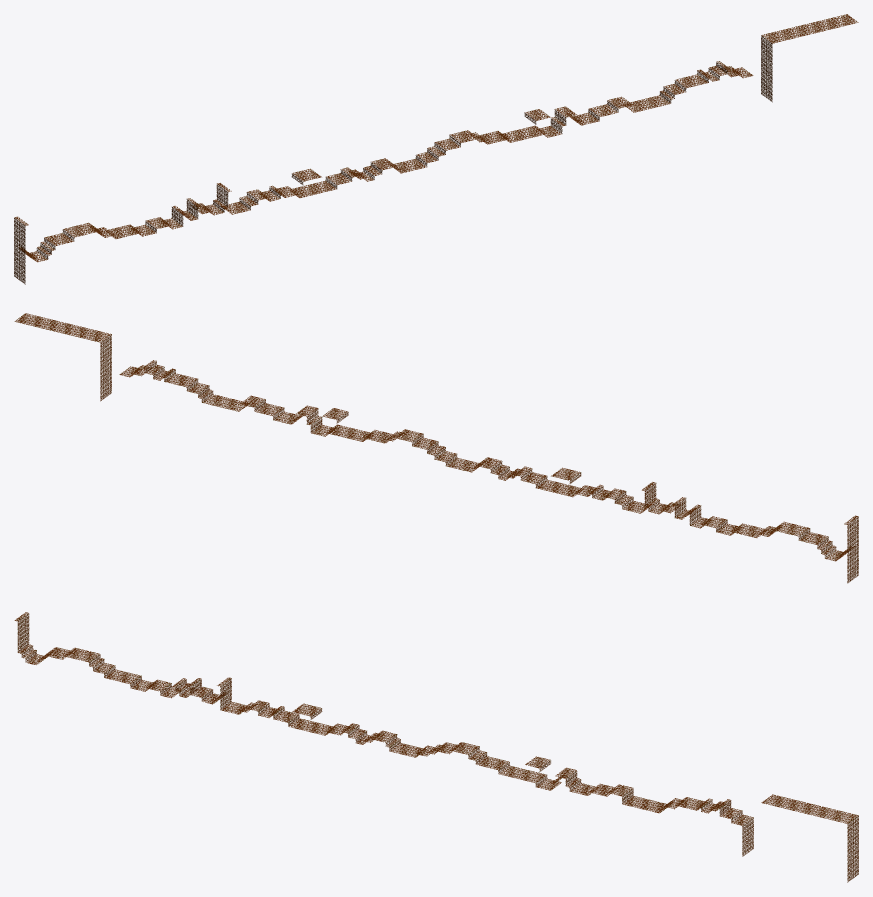
File: Luna2Rachadura12.glb
The picture shows the model from 3 angles, top to bottom: view 1: azimuth 30°, elevation 25°; view 2: azimuth 150°, elevation 25°; view 3: azimuth 330°, elevation 25°; orthographic projection.
Parts seen in each view (by area): view 1: Setor_1, Setor_4, Setor_6, Setor_2, Setor_5, Setor_3, Setor_0, Setor_-1; view 2: Setor_1, Setor_4, Setor_6, Setor_2, Setor_5, Setor_3, Setor_0, Setor_-1; view 3: Setor_6, Setor_0, Setor_4, Setor_2, Setor_1, Setor_5, Setor_3.
Part boxes in pixels (bbox=[...]): Setor_1: bbox=[134, 183, 265, 235]; Setor_4: bbox=[495, 98, 625, 142]; Setor_6: bbox=[735, 14, 858, 102]; Setor_2: bbox=[255, 161, 385, 201]; Setor_5: bbox=[615, 61, 745, 112]; Setor_3: bbox=[375, 130, 505, 173]; Setor_0: bbox=[14, 216, 145, 262]; Setor_-1: bbox=[14, 218, 25, 284]; Setor_1: bbox=[607, 482, 737, 534]; Setor_4: bbox=[247, 397, 377, 441]; Setor_6: bbox=[14, 313, 137, 401]; Setor_2: bbox=[487, 460, 617, 500]; Setor_5: bbox=[127, 360, 257, 411]; Setor_3: bbox=[367, 429, 497, 472]; Setor_0: bbox=[727, 515, 858, 561]; Setor_-1: bbox=[847, 517, 858, 583]; Setor_6: bbox=[735, 794, 858, 882]; Setor_0: bbox=[14, 612, 144, 688]; Setor_4: bbox=[495, 756, 625, 796]; Setor_2: bbox=[255, 702, 385, 744]; Setor_1: bbox=[134, 677, 265, 714]; Setor_5: bbox=[615, 786, 745, 823]; Setor_3: bbox=[375, 731, 505, 769].
Size of the model in its own units: 231 by 15.6 by 5.6.
1 material, 1 textured.
